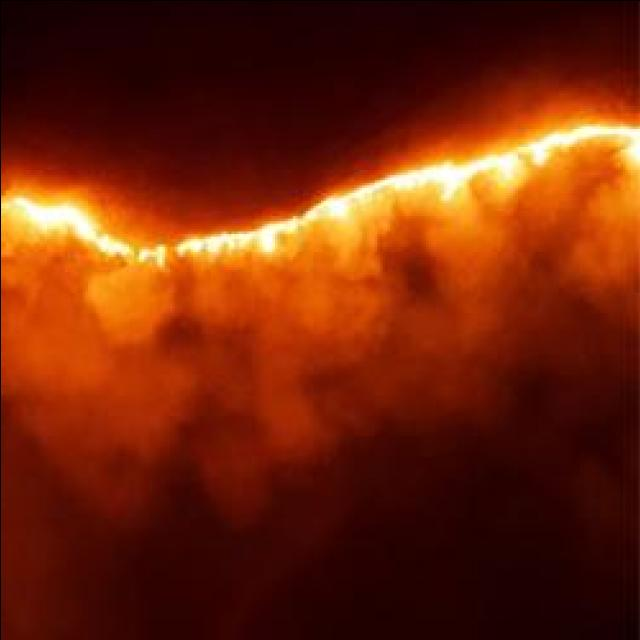fire: (5, 184, 150, 264), (186, 232, 282, 256), (392, 164, 460, 196), (580, 122, 638, 140), (534, 134, 572, 154), (480, 156, 524, 172), (324, 193, 352, 217)
smoke: (384, 207, 552, 443), (0, 268, 168, 490), (0, 453, 141, 640), (233, 306, 343, 460), (554, 189, 638, 365), (94, 263, 179, 341)
